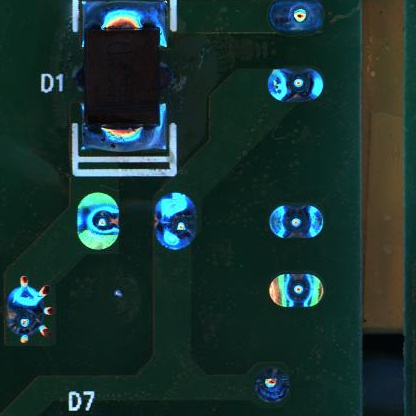spot: (7, 274, 55, 351), (153, 191, 199, 254), (77, 192, 119, 249), (266, 66, 325, 103), (267, 204, 325, 240), (268, 1, 327, 36), (268, 272, 324, 308), (255, 365, 292, 405)
